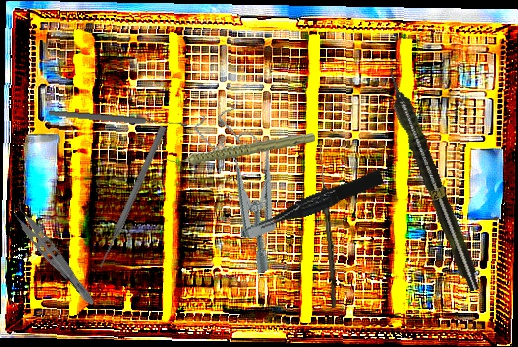Handpiece: (380, 65, 485, 294), (164, 121, 316, 175)
Pusher: (96, 124, 168, 270)
Speculum: (191, 99, 304, 279)
Surgical Spoon: (315, 146, 341, 308), (47, 108, 189, 130)
Tissue Forceps: (4, 197, 105, 309), (255, 169, 386, 232)
